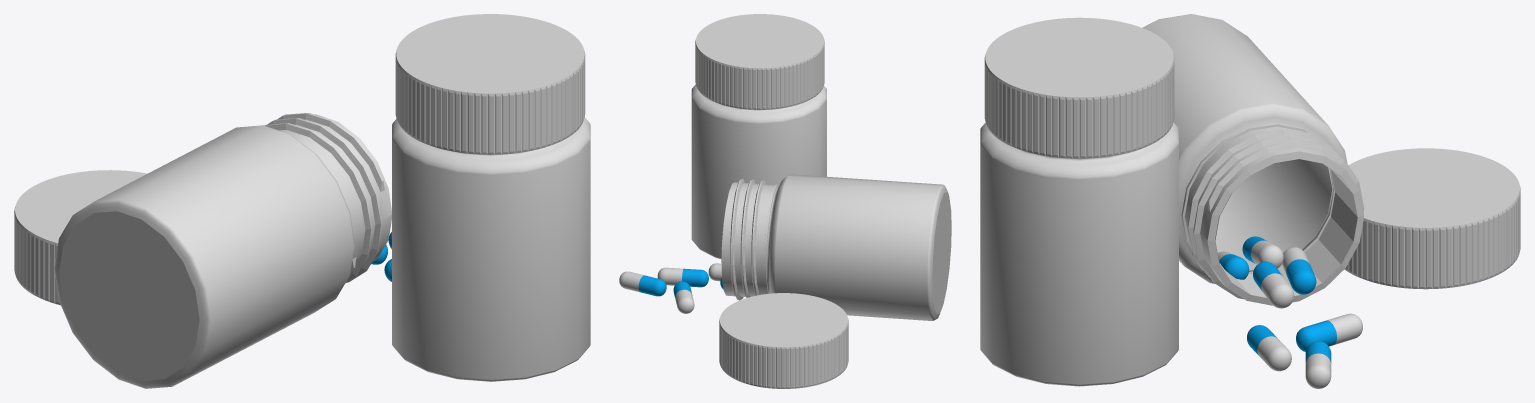
The model's file is Pote_de_comprimido.FBX.
3 views of the same model, side by side, from view 1: azimuth 30°, elevation 25°; view 2: azimuth 150°, elevation 25°; view 3: azimuth 270°, elevation 25° (orthographic). The views are drawn at different scales.
Visible parts, largest first — view 1: Plane008, Plane007, Cylinder002, Cylinder005; view 2: Plane008, Plane007, Cylinder002, Cylinder005, Cylinder004, Cylinder007, Cylinder009; view 3: Plane007, Plane008, Cylinder002, Cylinder005, Plane009, Cylinder009, Cylinder007, Cylinder013, Cylinder011, Cylinder004, Cylinder015, Cylinder017.
Boxes of the visible parts, <box> form: Plane008: <box>54,113,391,388</box>; Plane007: <box>392,117,590,381</box>; Cylinder002: <box>395,14,585,154</box>; Cylinder005: <box>14,170,146,305</box>; Plane008: <box>721,174,951,320</box>; Plane007: <box>691,84,826,258</box>; Cylinder002: <box>695,14,824,109</box>; Cylinder005: <box>719,293,848,388</box>; Cylinder004: <box>619,271,666,296</box>; Cylinder007: <box>657,267,708,287</box>; Cylinder009: <box>673,281,694,313</box>; Plane007: <box>980,122,1178,386</box>; Plane008: <box>1142,14,1364,305</box>; Cylinder002: <box>984,17,1174,158</box>; Cylinder005: <box>1344,148,1520,289</box>; Plane009: <box>1215,159,1357,297</box>; Cylinder009: <box>1296,313,1362,351</box>; Cylinder007: <box>1247,325,1291,371</box>; Cylinder013: <box>1253,261,1294,308</box>; Cylinder011: <box>1282,247,1316,294</box>; Cylinder004: <box>1305,341,1331,388</box>; Cylinder015: <box>1242,236,1283,268</box>; Cylinder017: <box>1217,251,1249,279</box>.
Size of the model in its own units: 157 by 170 by 102.
